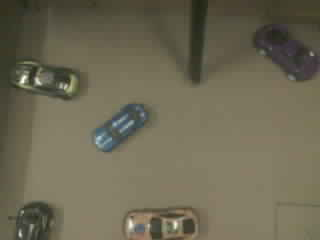Car: (255, 25, 319, 79), (94, 104, 147, 151), (12, 61, 78, 97), (125, 208, 198, 239), (17, 202, 52, 239)
